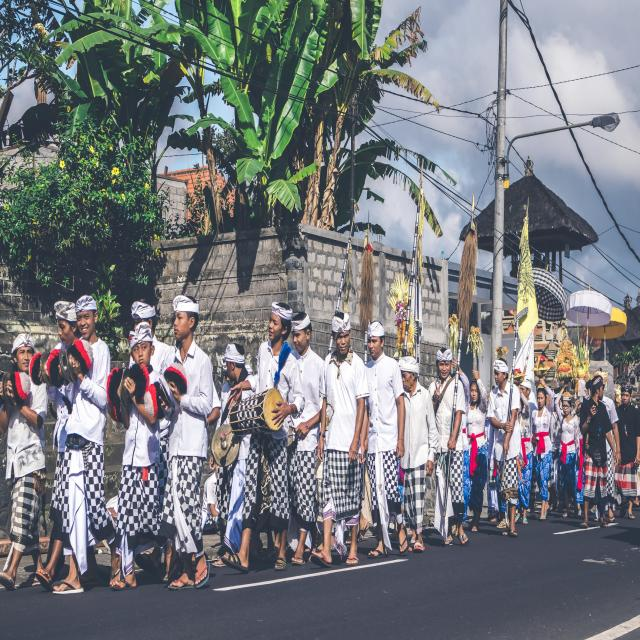adult: (222, 303, 304, 570), (53, 295, 121, 593), (311, 312, 367, 568), (167, 296, 212, 590), (0, 331, 48, 587), (39, 299, 80, 589), (115, 323, 158, 590), (367, 321, 408, 557), (287, 312, 324, 564), (428, 349, 470, 546), (402, 357, 436, 550), (487, 359, 519, 538), (580, 377, 616, 526), (464, 370, 487, 531), (615, 384, 640, 520), (555, 392, 580, 518), (514, 378, 534, 523), (532, 389, 554, 520), (226, 344, 250, 422)
